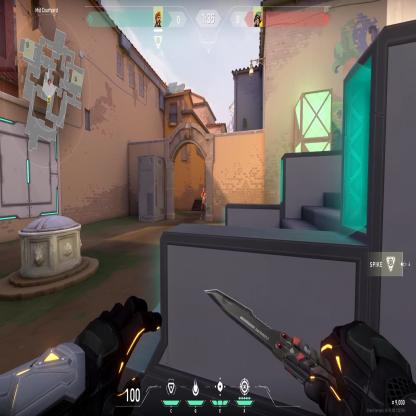enemy: (200, 186, 206, 220)
